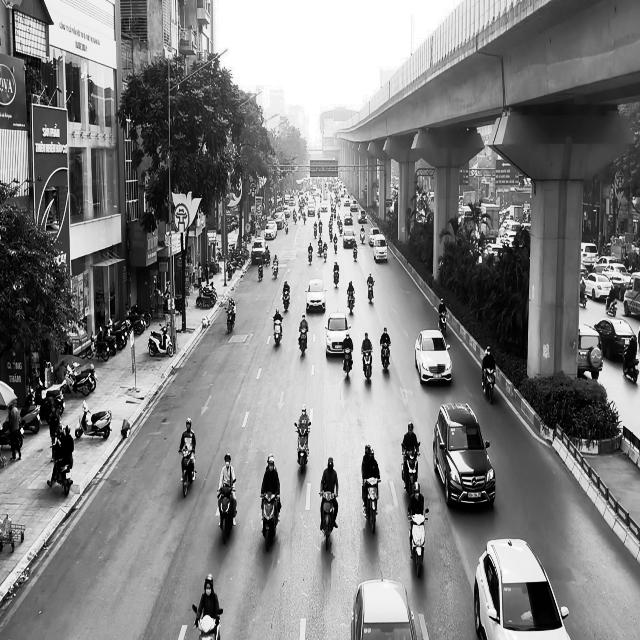car: (474, 538, 570, 640), (432, 402, 496, 508), (350, 576, 417, 640), (414, 329, 452, 385), (324, 312, 351, 356), (305, 278, 326, 311)
motorbike: (74, 400, 112, 440), (407, 507, 428, 578), (47, 440, 73, 496), (260, 492, 281, 552), (217, 482, 236, 544), (192, 604, 223, 640), (362, 478, 381, 534), (319, 491, 337, 550), (401, 444, 420, 496), (148, 322, 174, 357), (294, 422, 311, 474), (178, 448, 196, 497), (622, 351, 640, 383), (482, 366, 496, 404), (342, 347, 353, 379), (272, 315, 283, 346), (224, 305, 236, 333), (362, 349, 372, 382), (380, 342, 390, 372), (298, 328, 308, 356), (438, 312, 447, 336), (347, 290, 355, 314), (366, 280, 374, 303), (282, 288, 290, 311), (257, 262, 263, 281), (272, 262, 278, 278), (308, 249, 312, 265)
